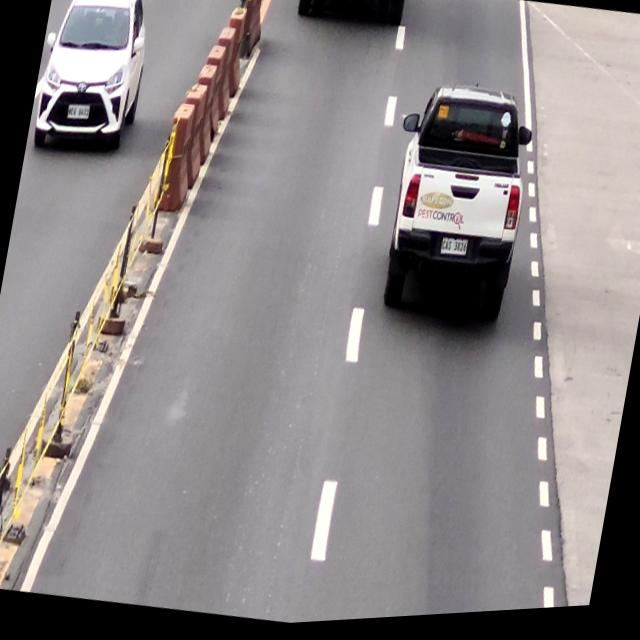Car: (368, 82, 541, 338), (440, 240, 468, 264)
